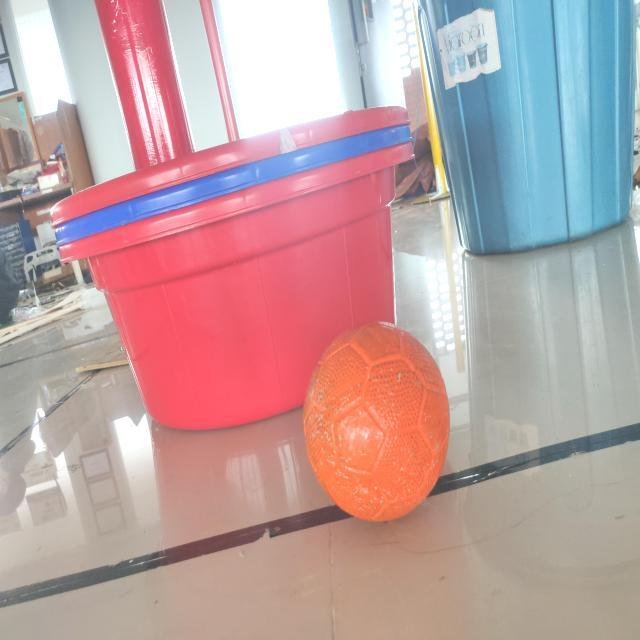bola: (299, 314, 456, 530)
